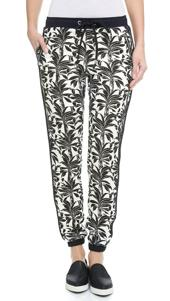C_W_pants: (33, 12, 140, 255)
S_pumps: (62, 254, 121, 297)
